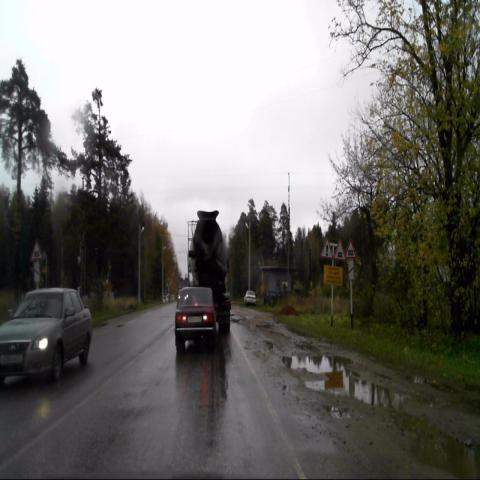1_1: (332, 237, 346, 262), (29, 239, 44, 261), (344, 238, 358, 260)
1_33: (319, 237, 333, 260)
